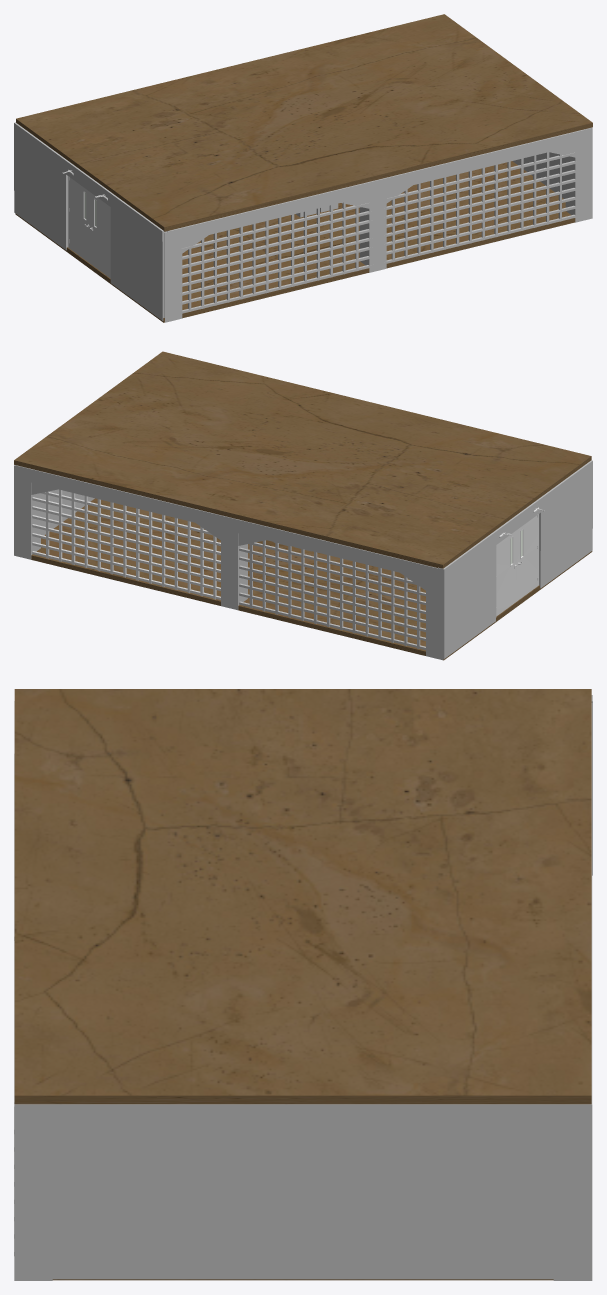
File: Zimmer.fbx
3 views of the same model, one above another, from view 1: azimuth 30°, elevation 25°; view 2: azimuth 150°, elevation 25°; view 3: azimuth 270°, elevation 25° (orthographic). The views are drawn at different scales.
Visible parts, largest first — view 1: Wand_hinten; view 2: Wand_hinten; view 3: Wand_hinten.
Part boxes in pixels (x1,y1,x2,y2): Wand_hinten: (14, 14, 592, 322); Wand_hinten: (14, 351, 592, 660); Wand_hinten: (14, 689, 592, 1280).
Size of the model in its own units: 17592 by 3701 by 10318.
